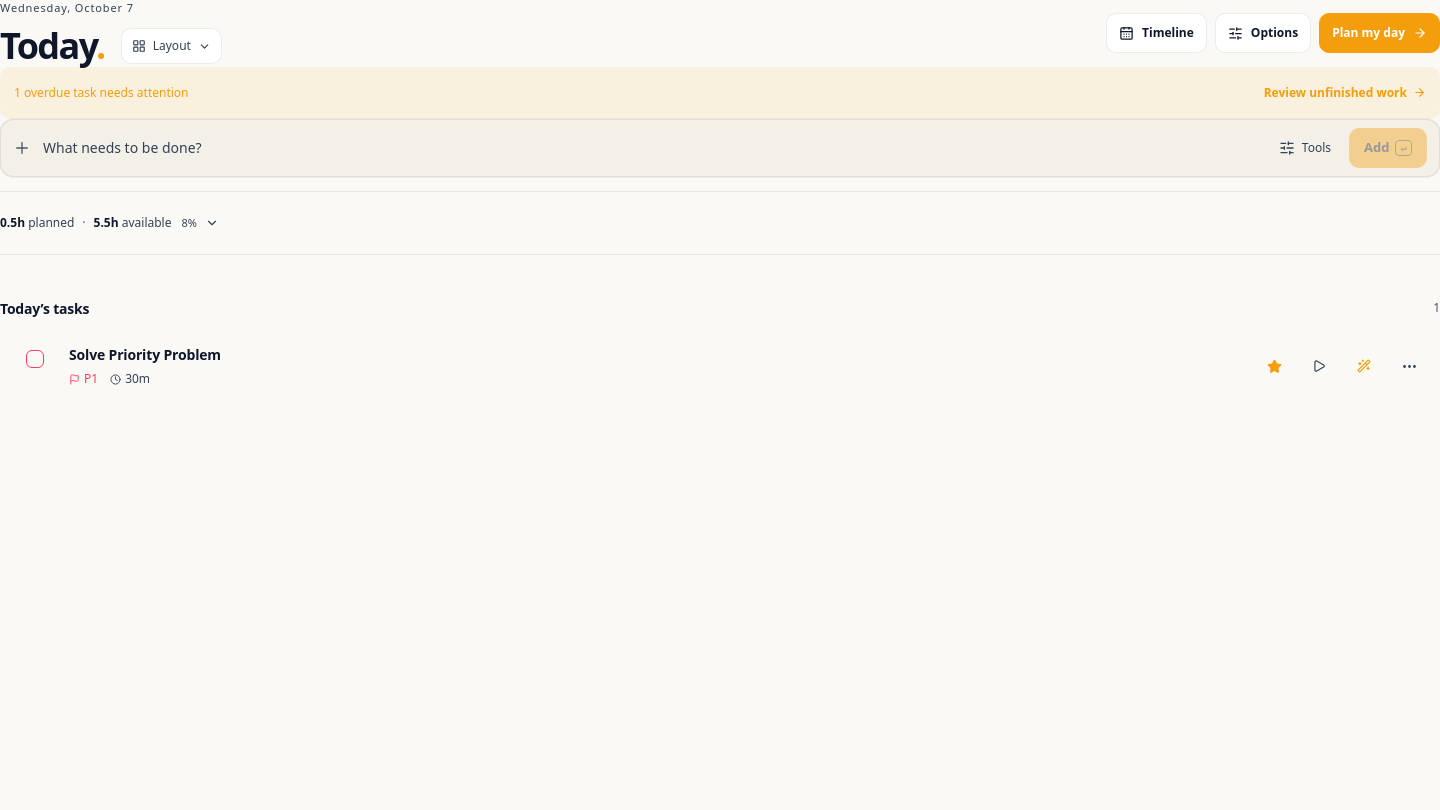
Test: Today workspace composition › opens guided day planning from the single header action
Click the button "Plan my day" at (1380, 33), box [1319,13,1439,53]
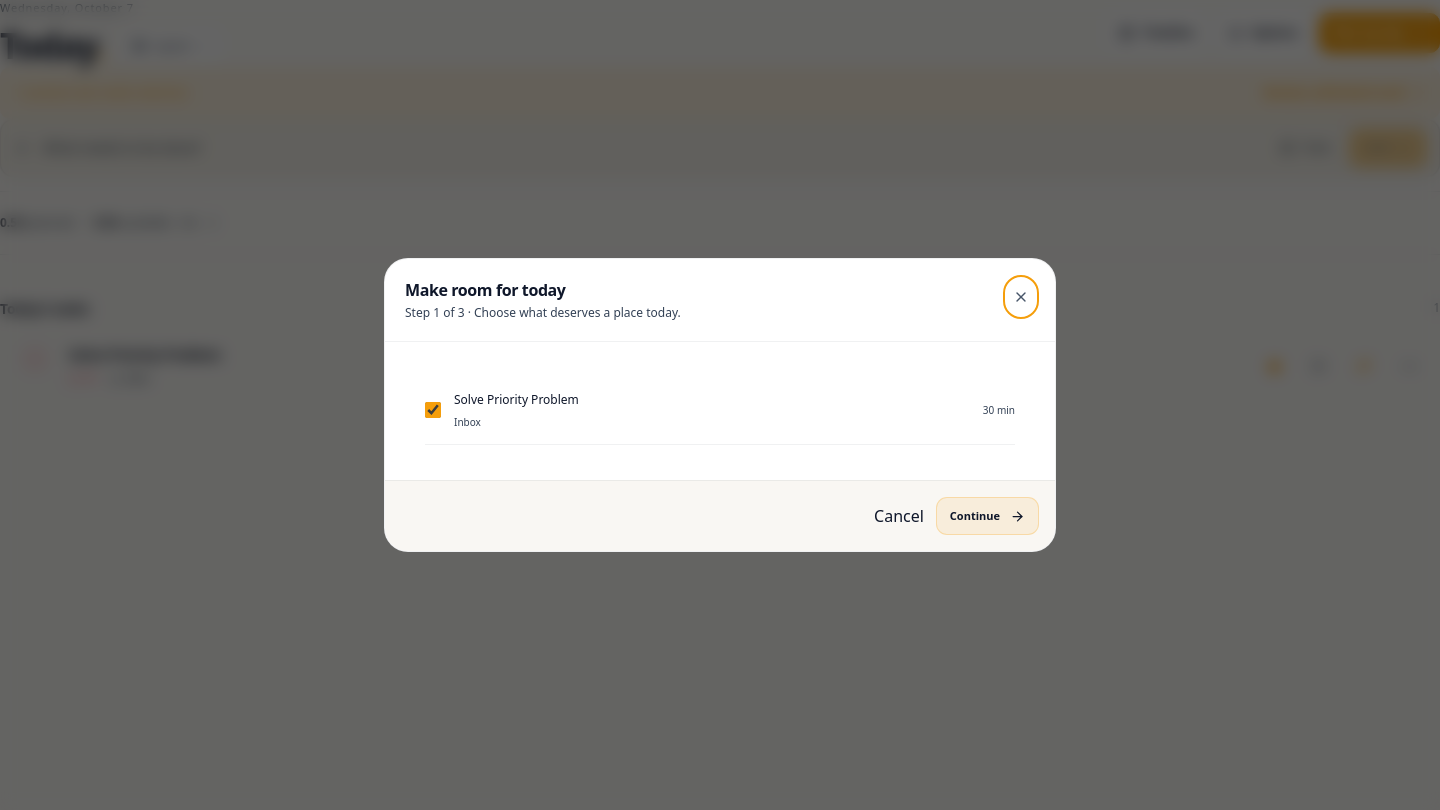
Result: the dialog "Make room for today" is shown
